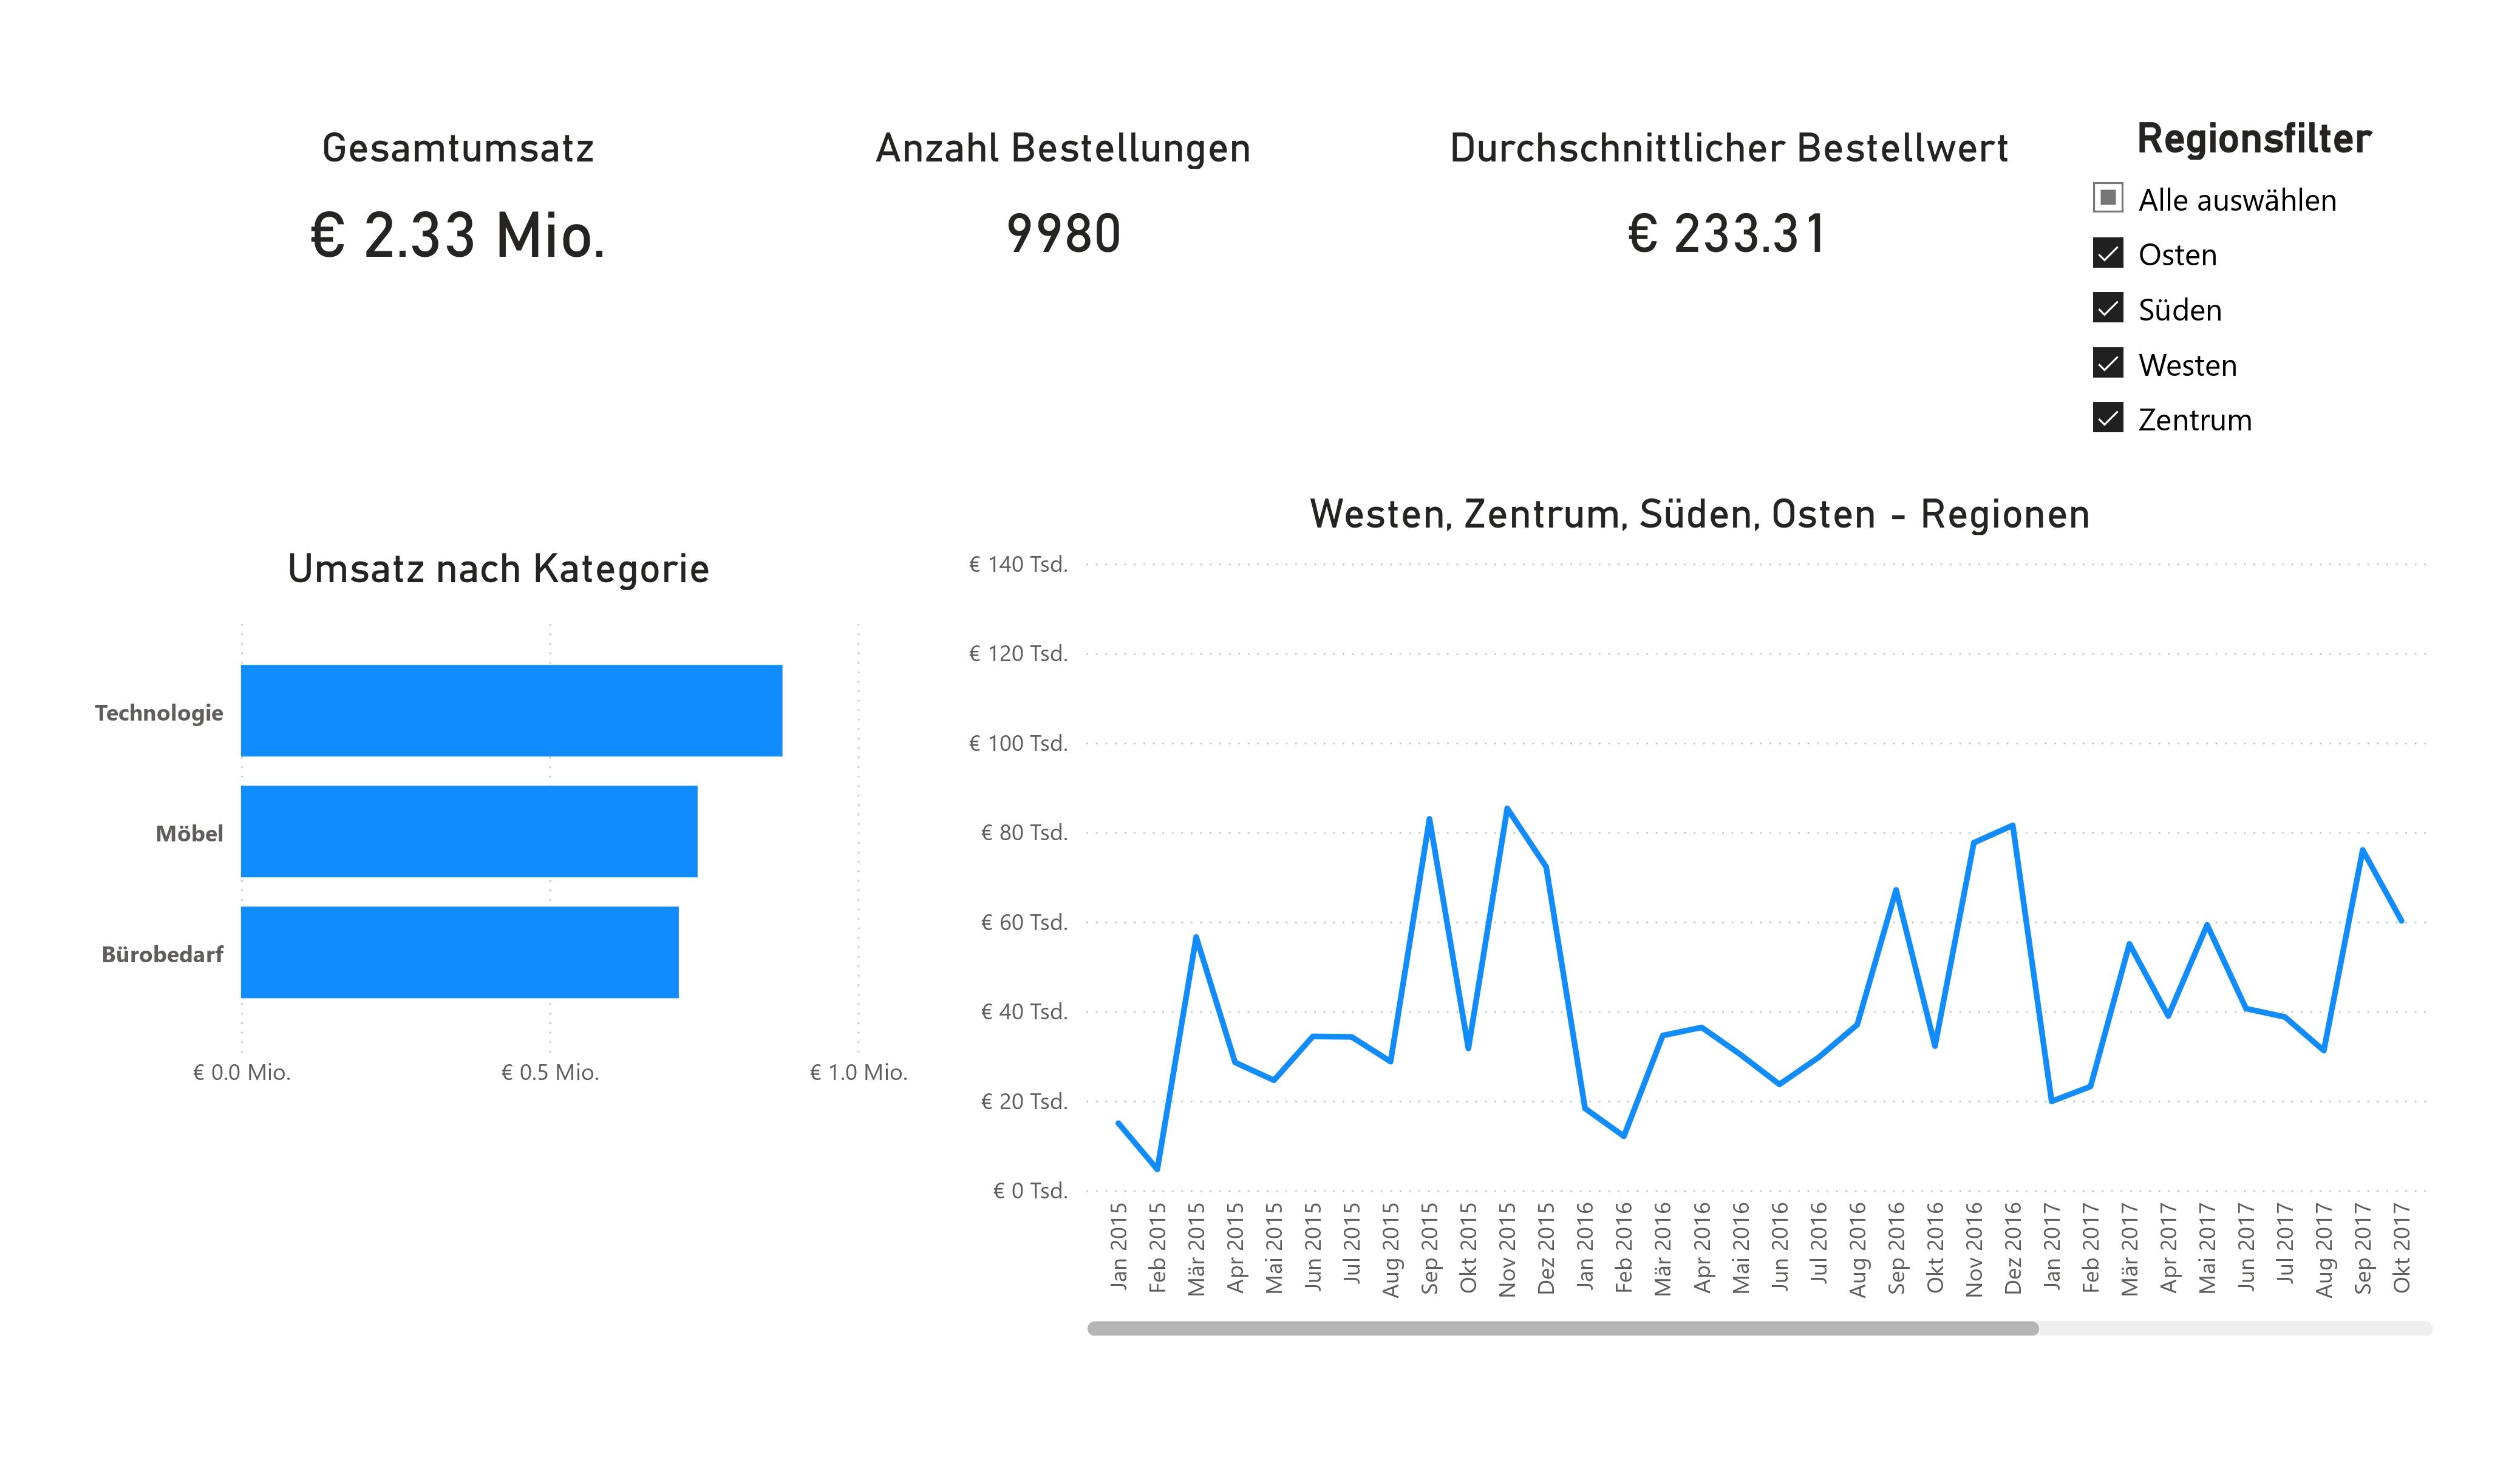

This screenshot's page, from the dashboard's own definition file:
{"tool":"powerbi","page":{"name":"Bericht Seite","canvas":[1280,720],"ordinal":0},"visuals":[{"type":"card","title":"Gesamtumsatz","fields":{"Values":["Sum(public fact_sales.sales)"]},"box":[68,35.9,298.6,90.7],"z":0},{"type":"card","title":"Anzahl Bestellungen","fields":{"Values":["public fact_sales.Order Count"]},"box":[387.4,35.9,298.6,90.7],"z":1000},{"type":"card","title":"Durchschnittlicher Bestellwert","fields":{"Values":["public fact_sales.Average_Order_Value"]},"box":[725.7,35.9,323.2,90.7],"z":2000},{"type":"clusteredBarChart","title":"Umsatz nach Kategorie","fields":{"Y":["Sum(public fact_sales.sales)"],"Category":["public dim_product.Kategorie Deutsch"]},"box":[18.9,262.7,440.3,296.7],"z":3000},{"type":"lineChart","fields":{"Y":["Sum(public fact_sales.sales)"],"Category":["public dim_date.Short_Month_Year"]},"box":[481.3,234.5,781.6,450.4],"z":4000},{"type":"slicer","title":"Regionsfilter","fields":{"Values":["public dim_customer.Region Deutsch"]},"box":[1065.8,35.9,196.5,200.3],"z":5000}]}

Visuals, with their boxes on the page's 1280x720 design canvas (x1, y1, x2, y2). These are canvas units, not pixel positions in the 2520x1457 screenshot, which may show the page scaled, cropped or inside an application window:
"Gesamtumsatz" card: left=68, top=36, right=367, bottom=127
"Anzahl Bestellungen" card: left=387, top=36, right=686, bottom=127
"Durchschnittlicher Bestellwert" card: left=726, top=36, right=1049, bottom=127
"Umsatz nach Kategorie" clusteredBarChart: left=19, top=263, right=459, bottom=559
lineChart - Sum(public fact_sales.sales) x public dim_date.Short_Month_Year: left=481, top=234, right=1263, bottom=685
"Regionsfilter" slicer: left=1066, top=36, right=1262, bottom=236
